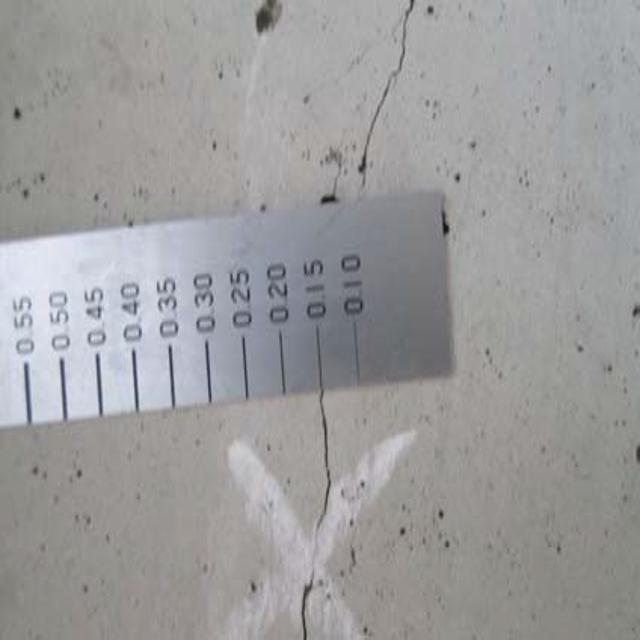crack: (362, 0, 427, 204), (295, 395, 342, 640)
